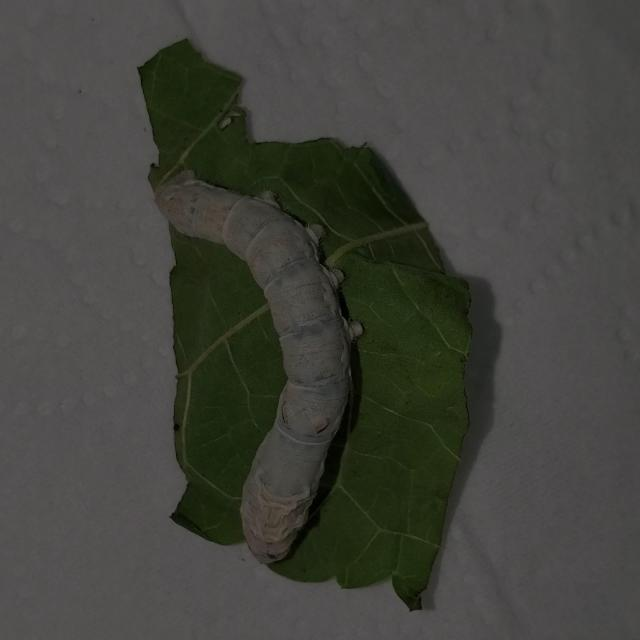Healthy: (148, 158, 372, 572)
